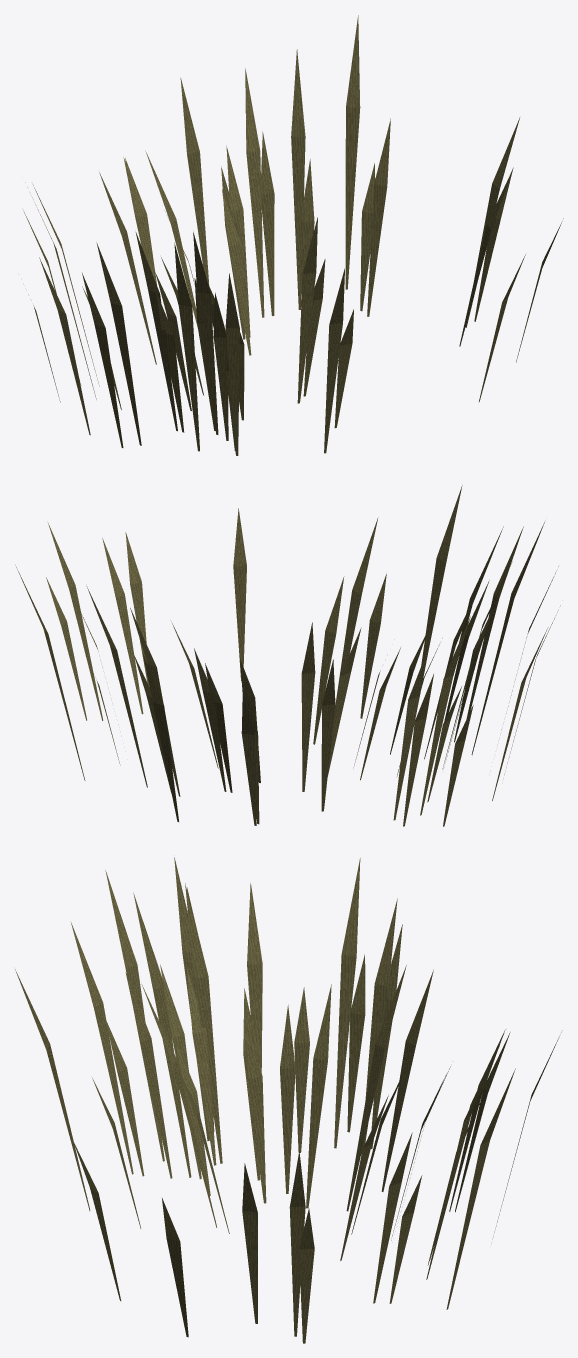
The model's file is env_ground_03_grass_dense.glb.
3 views of the same model, one above another, from view 1: azimuth 30°, elevation 25°; view 2: azimuth 150°, elevation 25°; view 3: azimuth 270°, elevation 25° (orthographic). The views are drawn at different scales.
Visible parts, largest first — view 1: foliage; view 2: foliage; view 3: foliage.
Part boxes in pixels (x1=…): foliage: x1=23, y1=15, x2=563, y2=455; foliage: x1=15, y1=485, x2=560, y2=826; foliage: x1=15, y1=857, x2=562, y2=1343.
Size of the model in its own units: 0.8856 by 0.4062 by 0.7612.
1 material, 1 textured.
